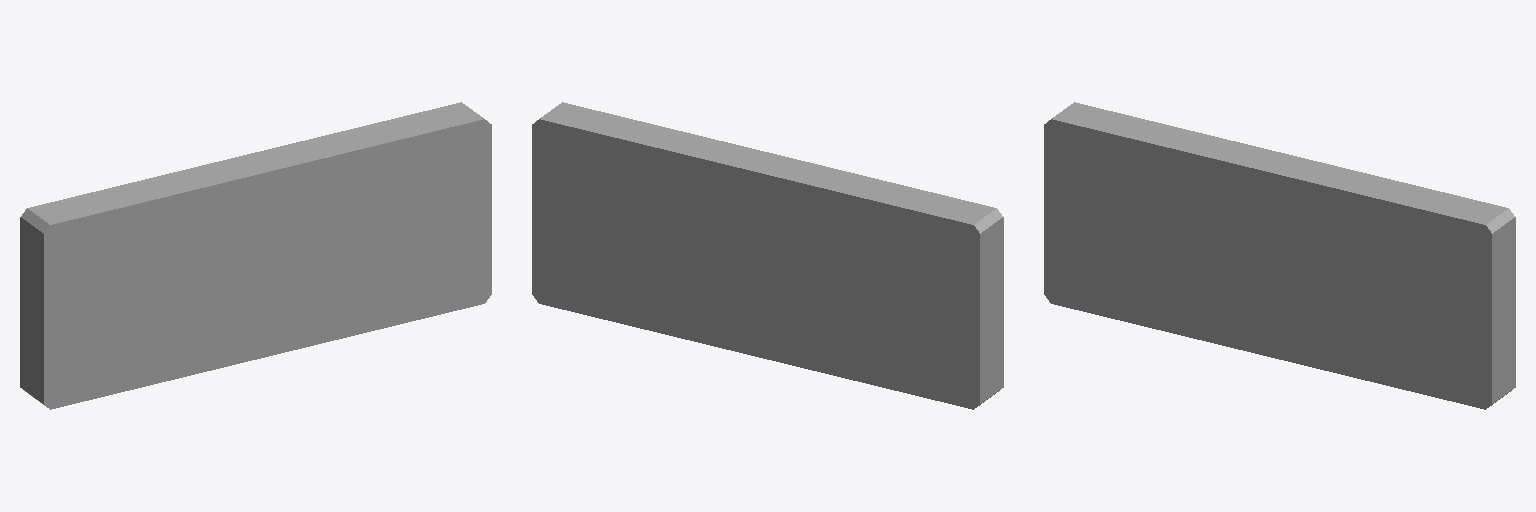
The robot description file, URDF, robot "dda_rb10_1300e":
<?xml version="1.0"?>
<!-- =================================================================================== -->
<!-- |    This document was autogenerated by xacro from rb10_1300e.urdf.xacro          | -->
<!-- |    EDITING THIS FILE BY HAND IS NOT RECOMMENDED                                 | -->
<!-- =================================================================================== -->
<robot name="dda_rb10_1300e">
  <link name="dda_link0">
    <visual>
      <geometry>
        <mesh filename="./meshes/rb10_1300e/visual/link0.dae" />
      </geometry>
    </visual>
    <collision>
      <geometry>
        <mesh filename="./meshes/rb10_1300e/collision/link0.stl" />
      </geometry>
    </collision>
  </link>
  <link name="dda_link1">
    <visual>
      <geometry>
        <mesh filename="./meshes/rb10_1300e/visual/link1.dae" />
      </geometry>
    </visual>
    <collision>
      <geometry>
        <mesh filename="./meshes/rb10_1300e/collision/link1.stl" />
      </geometry>
    </collision>
    <inertial>
      <origin rpy="0 0 0" xyz="0.000021 -0.007855 -0.042537" />
      <mass value="8.366" />
      <inertia ixx="0.027403652" ixy="-5.926e-06" ixz="-1.0119e-05" iyy="0.027770573"
        iyz="0.003030512" izz="0.026140211" />
    </inertial>
  </link>
  <link name="dda_link2">
    <visual>
      <geometry>
        <mesh filename="./meshes/rb10_1300e/visual/link2.dae" />
      </geometry>
    </visual>
    <collision>
      <geometry>
        <mesh filename="./meshes/rb10_1300e/collision/link2.stl" />
      </geometry>
    </collision>
    <inertial>
      <origin rpy="0 0 0" xyz="-0.000013 -0.155462 0.225241" />
      <mass value="15.61" />
      <inertia ixx="1.140650644" ixy="-1.3042e-05" ixz="-6.7084e-05" iyy="1.134398623"
        iyz="0.024507884" izz="0.050849068" />
    </inertial>
  </link>
  <link name="dda_link3">
    <visual>
      <geometry>
        <mesh filename="./meshes/rb10_1300e/visual/link3.dae" />
      </geometry>
    </visual>
    <collision>
      <geometry>
        <mesh filename="./meshes/rb10_1300e/collision/link3.stl" />
      </geometry>
    </collision>
    <inertial>
      <origin rpy="0 0 0" xyz="-0.000048 -0.013885 0.325013" />
      <mass value="5.69" />
      <inertia ixx="0.312033029" ixy="9.298e-06" ixz="1.169e-05" iyy="0.311287646" iyz="0.005331552"
        izz="0.011397824" />
    </inertial>
  </link>
  <link name="dda_link4">
    <visual>
      <geometry>
        <mesh filename="./meshes/rb10_1300e/visual/link4.dae" />
      </geometry>
    </visual>
    <collision>
      <geometry>
        <mesh filename="./meshes/rb10_1300e/collision/link4.stl" />
      </geometry>
    </collision>
    <inertial>
      <origin rpy="0 0 0" xyz="0.000093 -0.113949 0.026461" />
      <mass value="2.062" />
      <inertia ixx="0.0027111" ixy="-8.022e-06" ixz="1.1208e-05" iyy="0.002715407" iyz="0.000144243"
        izz="0.002157043" />
    </inertial>
  </link>
  <link name="dda_link5">
    <visual>
      <geometry>
        <mesh filename="./meshes/rb10_1300e/visual/link5.dae" />
      </geometry>
    </visual>
    <collision>
      <geometry>
        <mesh filename="./meshes/rb10_1300e/collision/link5.stl" />
      </geometry>
    </collision>
    <inertial>
      <origin rpy="0 0 0" xyz="-0.000093 -0.026434 -0.003233" />
      <mass value="2.061" />
      <inertia ixx="0.002706437" ixy="1.1205e-05" ixz="-8.016e-06" iyy="0.002153592"
        iyz="0.000141528" izz="0.002712272" />
    </inertial>
  </link>
  <link name="dda_link6">
    <visual>
      <geometry>
        <mesh filename="./meshes/rb10_1300e/visual/link6.dae" />
      </geometry>
    </visual>
    <collision>
      <geometry>
        <mesh filename="./meshes/rb10_1300e/collision/link6.stl" />
      </geometry>
    </collision>
    <inertial>
      <origin rpy="0 0 0" xyz="-0.000210 -0.092540 -0.000292" />
      <mass value="0.406" />
      <inertia ixx="0.000345314" ixy="5.73e-07" ixz="6.61e-07" iyy="0.000532873" iyz="-5.4e-08"
        izz="0.000340021" />
    </inertial>
  </link>
  <link name="dda_link_end">
    <inertial>
      <origin xyz="2.94628820194806e-07 -0.014999799194710131 6.035655293378008e-17" rpy="0 0 0" />
      <mass value="10.402034999999998" />
      <inertia ixx="0.015852" iyy="0.112139" izz="0.097847" ixy="-0.0" iyz="0.0" ixz="0.0" />
    </inertial>
    <visual>
      <origin xyz="-0.0 0.1163 -0.0" rpy="0 0 0" />
      <geometry>
        <mesh filename="./meshes/link_dda.stl" scale="0.001 0.001 0.001" />
      </geometry>
      <material name="silver" />
    </visual>
    <collision>
      <origin xyz="-0.0 0.1163 -0.0" rpy="0 0 0" />
      <geometry>
        <mesh filename="./meshes/link_dda.stl" scale="0.001 0.001 0.001" />
      </geometry>
    </collision>
  </link>
  <link name="dda_link_tcp" />
  <joint name="dda_joint_base" type="revolute">
    <origin rpy="0 0 0" xyz="0 0 0" />
    <parent link="dda_link0" />
    <child link="dda_link1" />
    <axis xyz="0 0 1" />
    <limit effort="10" lower="-3.14" upper="3.14" velocity="3.14" />
  </joint>
  <joint name="dda_joint_shoulder" type="revolute">
    <origin rpy="0 0 0" xyz="0 0 0.197" />
    <parent link="dda_link1" />
    <child link="dda_link2" />
    <axis xyz="0 1 0" />
    <limit effort="10" lower="-3.14" upper="3.14" velocity="3.14" />
  </joint>
  <joint name="dda_joint_elbow" type="revolute">
    <origin rpy="0 0 0" xyz="0 -0.1875 0.6127" />
    <parent link="dda_link2" />
    <child link="dda_link3" />
    <axis xyz="0 1 0" />
    <limit effort="10" lower="-3.14" upper="3.14" velocity="3.14" />
  </joint>
  <joint name="dda_joint_wrist1" type="revolute">
    <origin rpy="0 0 0" xyz="0 0.1484 0.57015" />
    <parent link="dda_link3" />
    <child link="dda_link4" />
    <axis xyz="0 1 0" />
    <limit effort="10" lower="-3.14" upper="3.14" velocity="3.14" />
  </joint>
  <joint name="dda_joint_wrist2" type="revolute">
    <origin rpy="0 0 0" xyz="0 -0.11715 0" />
    <parent link="dda_link4" />
    <child link="dda_link5" />
    <axis xyz="0 0 1" />
    <limit effort="10" lower="-3.14" upper="3.14" velocity="3.14" />
  </joint>
  <joint name="dda_joint_wrist3" type="revolute">
    <origin rpy="0 0 0" xyz="0 0 0.11715" />
    <parent link="dda_link5" />
    <child link="dda_link6" />
    <axis xyz="0 1 0" />
    <limit effort="10" lower="-3.14" upper="3.14" velocity="3.14" />
  </joint>
  <joint name="dda_joint_end" type="fixed">
    <origin xyz="0.0 -0.1163 0.0" rpy="0 0 0" />
    <parent link="dda_link6" />
    <child link="dda_link_end" />
  </joint>
  <joint name="dda_joint_tcp" type="fixed">
    <origin xyz="0.0 -0.03 0.0" rpy="0 0 -1.57" />
    <parent link="dda_link_end" />
    <child link="dda_link_tcp" />
  </joint>
</robot>

--- Facts derived from the render (not from the file) ---
3 views of the same robot in one strip: view 1: azimuth 30°, elevation 25°; view 2: azimuth 150°, elevation 25°; view 3: azimuth 330°, elevation 25° (orthographic).
Model dda_rb10_1300e with 9 links and 8 joints (6 revolute, 2 fixed), rooted at dda_link0, posed all joints at 0.
Links seen in each view (by area): view 1: dda_link_end; view 2: dda_link_end; view 3: dda_link_end.
Boxes of the visible links, x1,y1,x2,y2 form: dda_link_end: [20, 102, 491, 409]; dda_link_end: [532, 102, 1003, 409]; dda_link_end: [1044, 102, 1515, 409].
Size in the robot's own frame: 0.335 by 0.03 by 0.132 metres.
1 mesh visuals loaded from 8 distinct referenced files (1 binary STL); not drawn: 7 (reference not matched to a file when rendering).